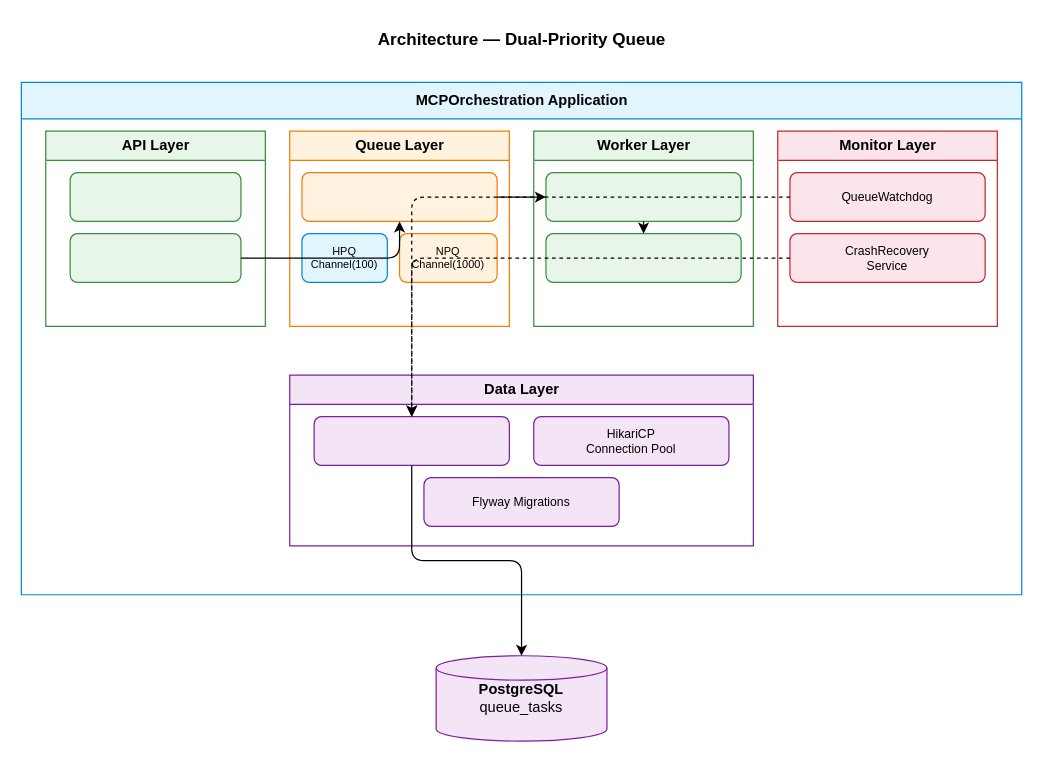
The diagram is 1043 pixels wide and 763 high, and some of its shapes have lost their labels. The centre of each missing label's shape, as x and y in pixels:
"DualPriorityQueue" goes at (x=399, y=196).
"QueueService" goes at (x=155, y=196).
"QueueServiceImpl" goes at (x=155, y=257).
"QueueWorker (SupervisorJob)" goes at (x=643, y=196).
"TaskHandler (Strategy)" goes at (x=643, y=257).
"TaskStateRepository" goes at (x=411, y=440).
